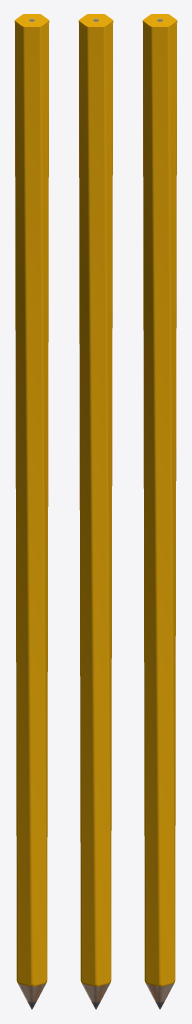
The model's file is Pencil.glb.
The picture shows the model from 3 angles, left to right: view 1: azimuth 30°, elevation 25°; view 2: azimuth 210°, elevation 25°; view 3: azimuth 330°, elevation 25°; orthographic projection.
Size of the model in its own units: 0.00584 by 0.1858 by 0.00584.
Materials: 3 (1 with a texture image).
